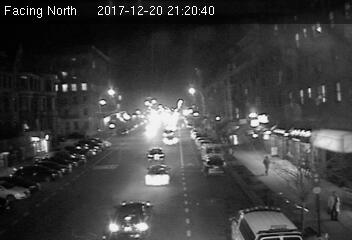car: (107, 200, 156, 240), (144, 165, 171, 183), (202, 156, 227, 173), (146, 147, 165, 163), (163, 136, 178, 146)
pedestrian: (264, 154, 271, 177)
police: (231, 206, 305, 240)
